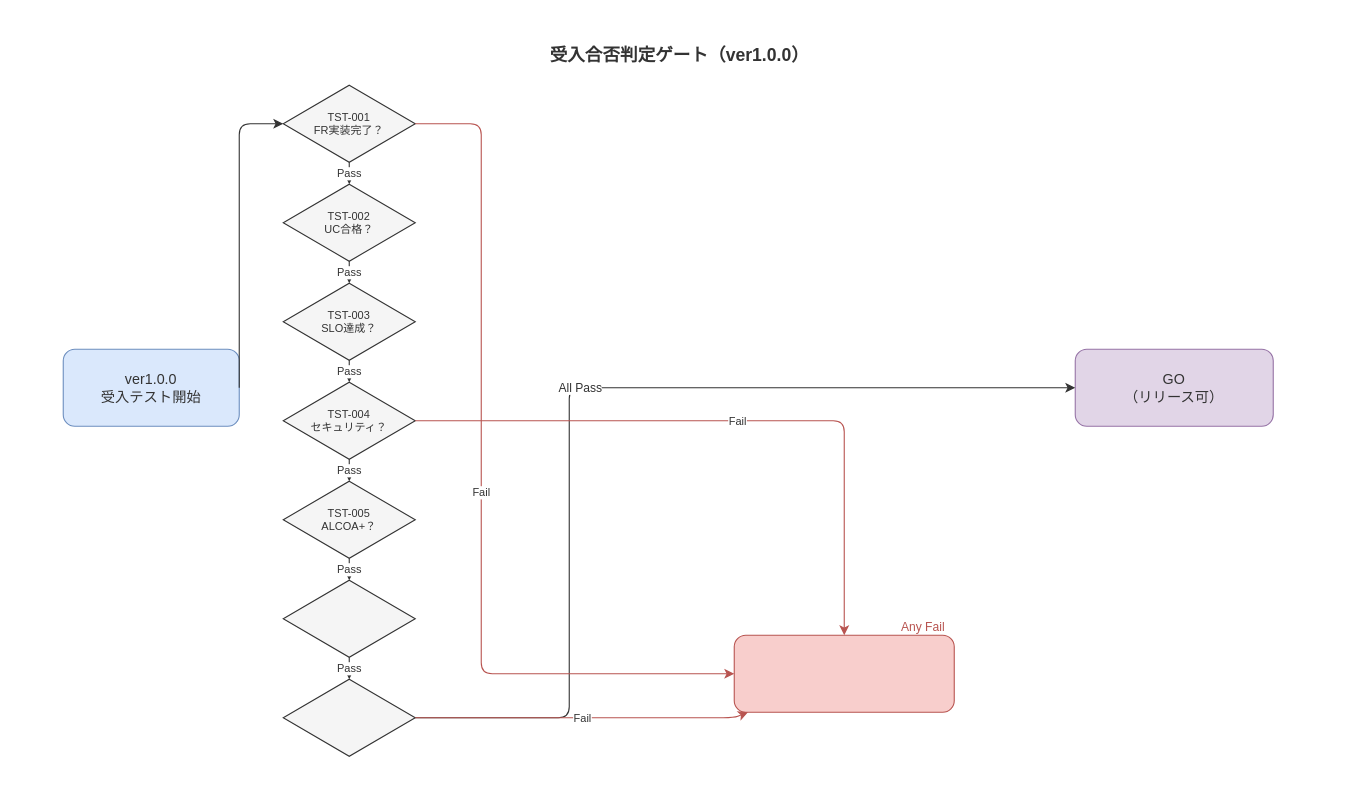
The diagram is 1357 pixels wide and 807 high, and some of its shapes have lost their labels. The shapes that lost their labels are listed below. From the top down, each one's centre as x and y in pixels, then its label:
point (348, 618): TST-006 移行テスト？
point (843, 673): NO-GO （修正・再テスト）
point (348, 717): TST-007 Outbox動作？
